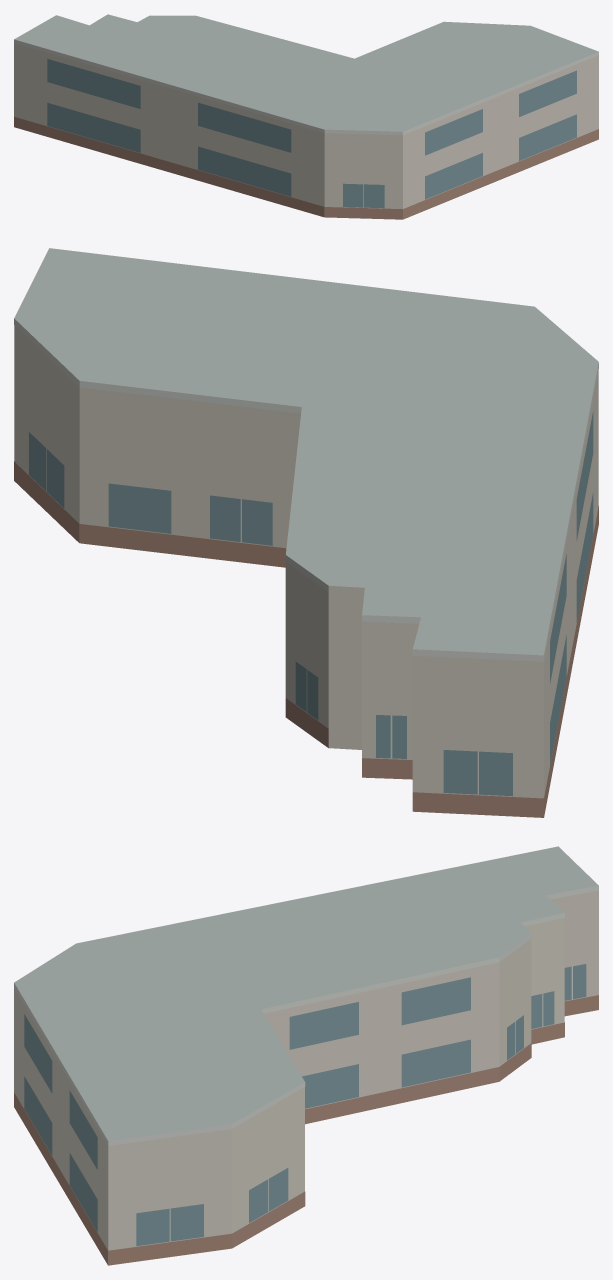
File: survey-upis-32798905.glb
3 renders of one model, top to bottom at view 1: azimuth 30°, elevation 25°; view 2: azimuth 150°, elevation 25°; view 3: azimuth 270°, elevation 25°, orthographic. The views are drawn at different scales.
Parts seen in each view (by area): view 1: survey-upis-32798905.tmp; view 2: survey-upis-32798905.tmp; view 3: survey-upis-32798905.tmp.
Part boxes in pixels (<box>): survey-upis-32798905.tmp: <box>14,14,598,219</box>; survey-upis-32798905.tmp: <box>14,248,598,817</box>; survey-upis-32798905.tmp: <box>14,846,598,1265</box>.
Size of the model in its own units: 30.99 by 6.1 by 25.98.
